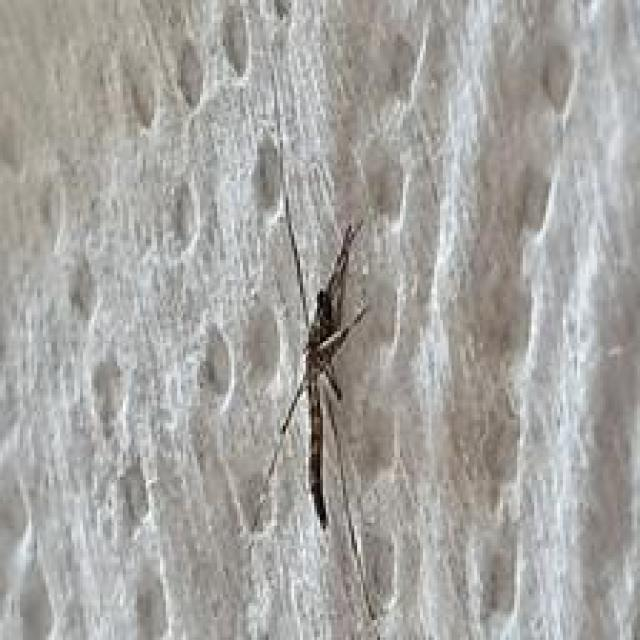Aedes albopictus: (257, 195, 372, 536)
